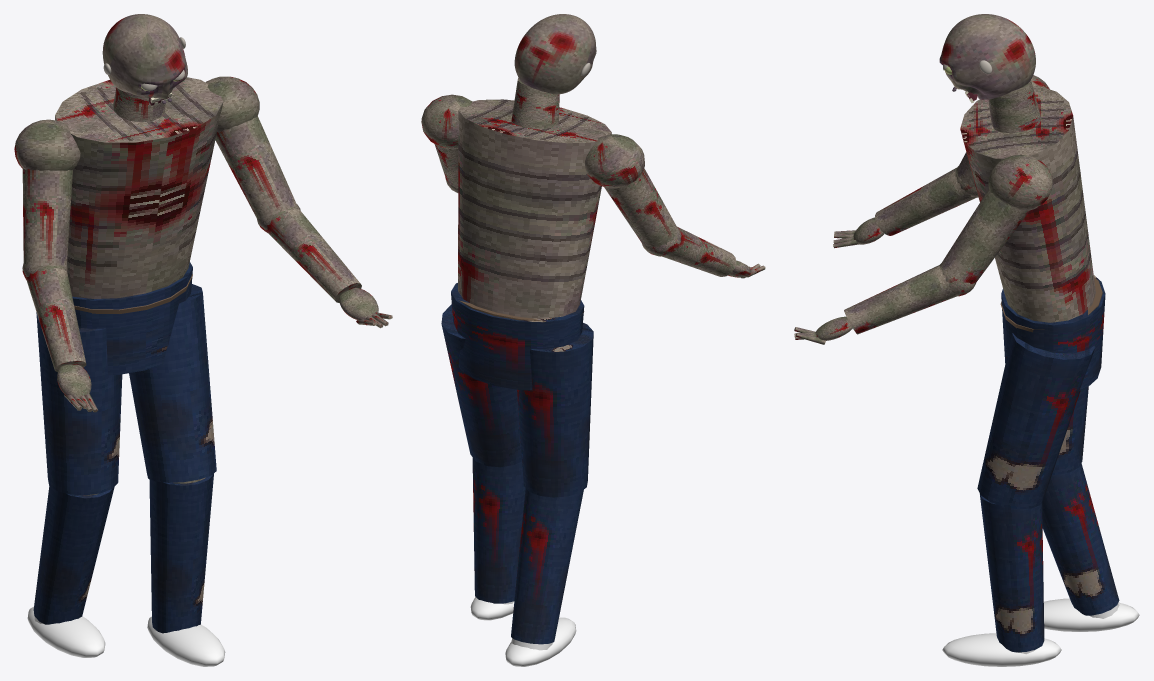
Rendered from Zombie_036.glb.
The picture shows the model from 3 angles, left to right: view 1: azimuth 30°, elevation 25°; view 2: azimuth 150°, elevation 25°; view 3: azimuth 270°, elevation 25°; orthographic projection. The views are drawn at different scales.
Parts seen in each view (by area): view 1: Zombie_036, object 16, object 3, object 10, object 11, object 4; view 2: Zombie_036, object 16, object 3; view 3: Zombie_036, object 16, object 10, object 3, object 11, object 4.
Part boxes in pixels (left/top/right/bottom): Zombie_036: left=14, top=76, right=296, bottom=666; object 16: left=102, top=14, right=187, bottom=99; object 3: left=26, top=268, right=86, bottom=372; object 10: left=266, top=208, right=361, bottom=302; object 11: left=339, top=288, right=378, bottom=320; object 4: left=57, top=364, right=91, bottom=398; Zombie_036: left=421, top=78, right=678, bottom=666; object 16: left=514, top=14, right=596, bottom=94; object 3: left=662, top=226, right=736, bottom=276; Zombie_036: left=940, top=75, right=1139, bottom=666; object 16: left=939, top=14, right=1035, bottom=100; object 10: left=844, top=265, right=957, bottom=334; object 3: left=875, top=167, right=976, bottom=235; object 11: left=815, top=316, right=852, bottom=340; object 4: left=853, top=217, right=884, bottom=244.
Size of the model in its own units: 0.7657 by 1.61 by 0.8102.
Materials: 15 (5 with a texture image).
